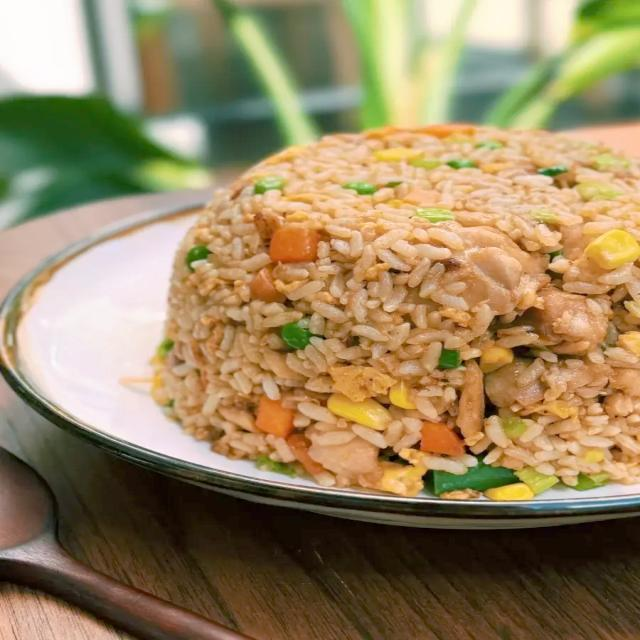Fried Rice: (153, 123, 640, 499)
